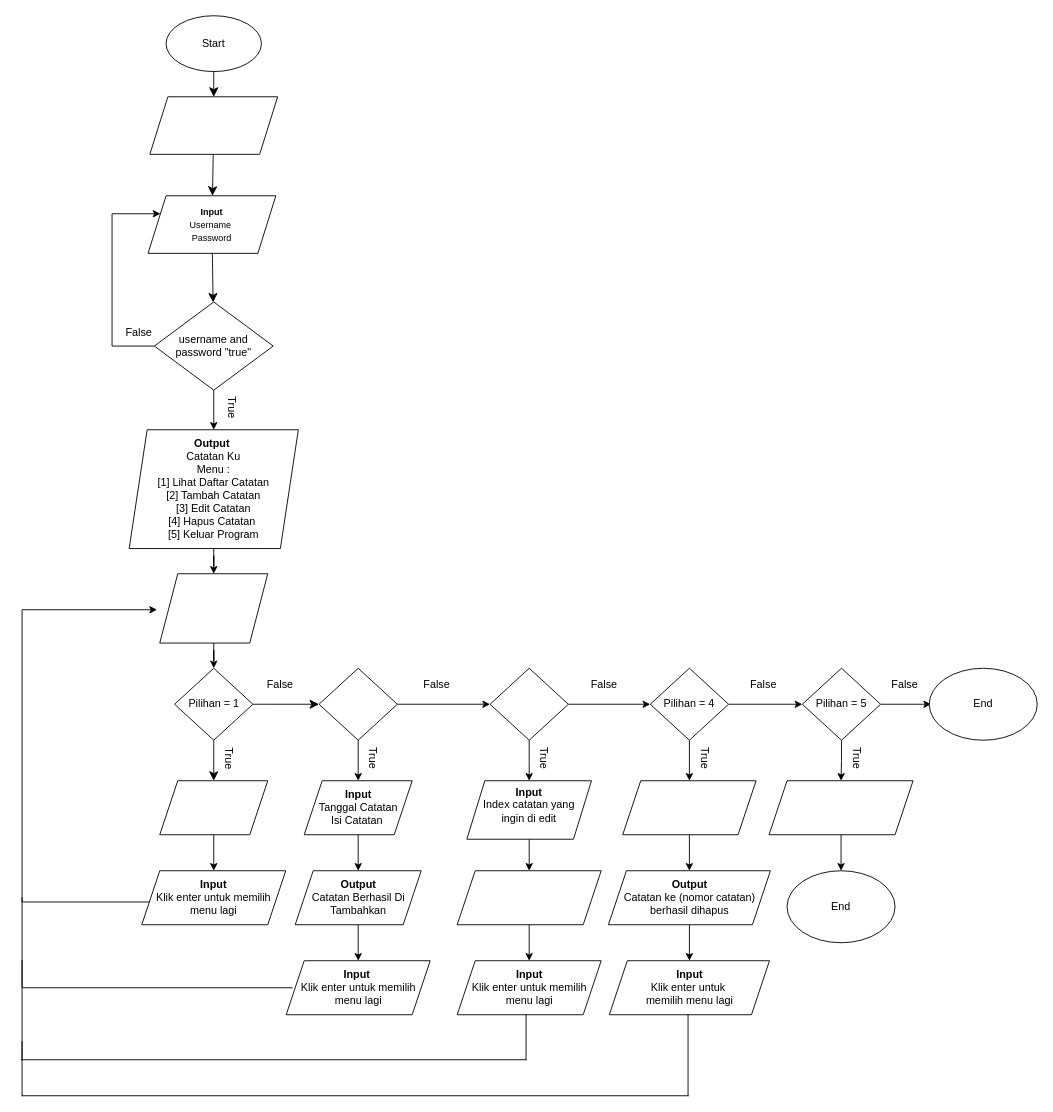
This 1053x1112 diagram has some shape labels left out. Here are the shapes that lost their labels. From the top down, the box of each, then its label:
(149, 96, 278, 154): Output Program CRUD Catatan Pribad i
(159, 573, 268, 643): Input Masukkan pilihan
(318, 667, 397, 740): Pilihan = 2
(489, 667, 568, 740): Pilihan = 3
(159, 780, 268, 835): Output Lihat Catatan
(622, 780, 756, 835): Input Index catatan yang ingin di hapus
(768, 780, 913, 835): Output Anda Telah Keluar dari Program
(456, 870, 601, 925): Output Catatan berhasil di edit
